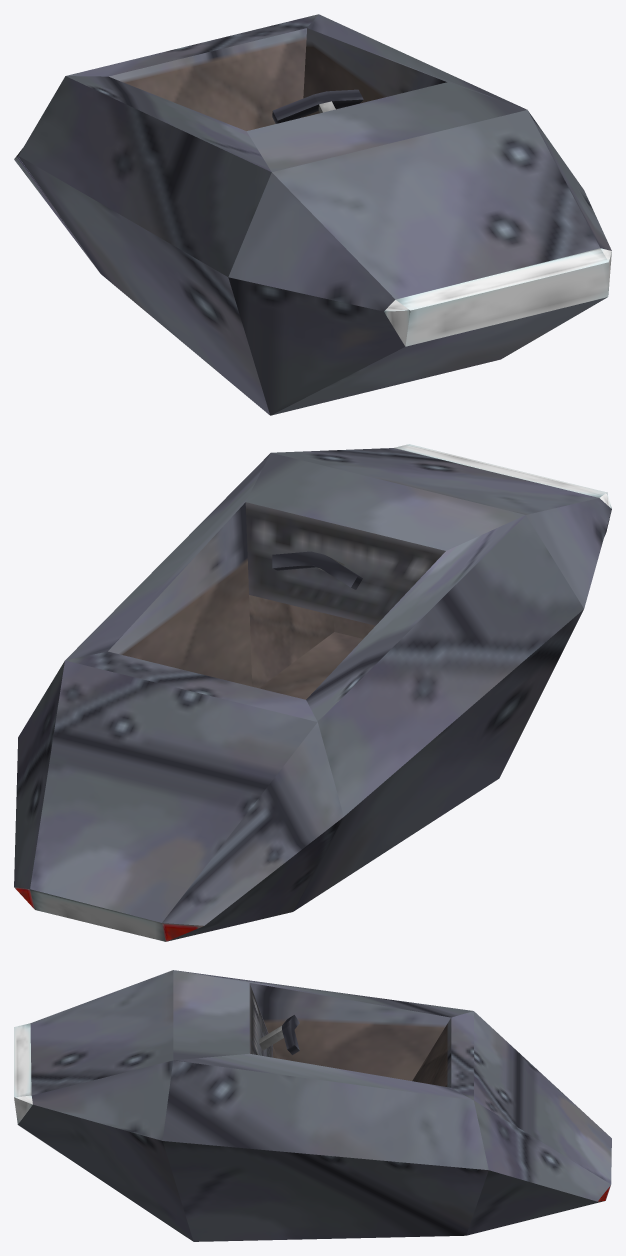
3 renders of one model, top to bottom at view 1: azimuth 30°, elevation 25°; view 2: azimuth 150°, elevation 25°; view 3: azimuth 270°, elevation 25°, orthographic. The views are drawn at different scales.
Parts seen in each view (by area): view 1: Body, SteeringWheel; view 2: Body, SteeringWheel; view 3: Body, SteeringWheel.
Boxes of the visible parts, x1,y1,x2,y2 form: Body: [14, 14, 611, 415]; SteeringWheel: [272, 89, 363, 123]; Body: [14, 444, 611, 941]; SteeringWheel: [272, 551, 362, 589]; Body: [14, 970, 611, 1241]; SteeringWheel: [259, 1015, 299, 1054].
Size of the model in its own units: 1.2 by 0.8318 by 2.42.
Materials: 1 (1 with a texture image).
